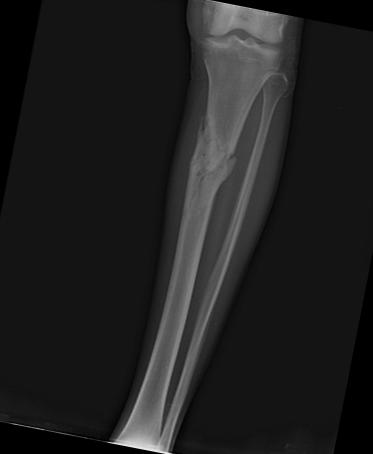fractured: (181, 109, 240, 217)
